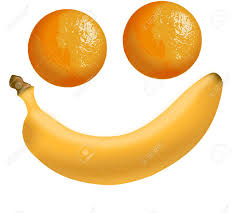banana: (7, 73, 222, 186)
orange: (26, 9, 108, 87), (122, 1, 201, 81)
